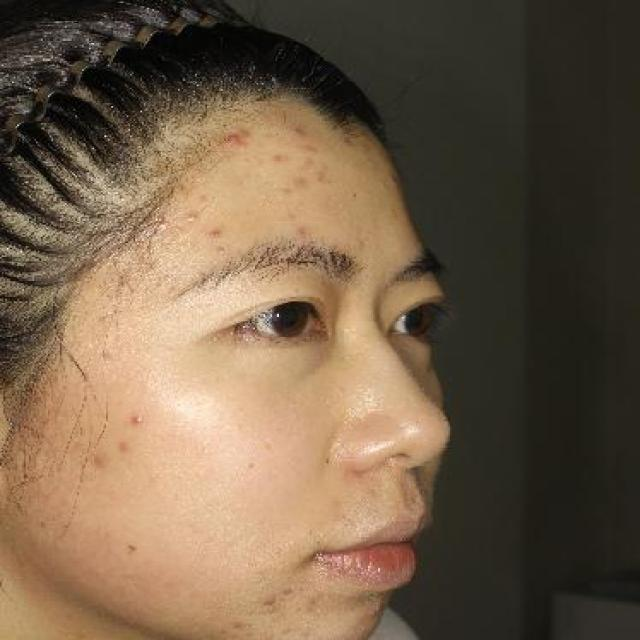Acne: (86, 448, 113, 472), (108, 440, 140, 458)
Whiteheads: (121, 409, 152, 431), (180, 206, 207, 225)
